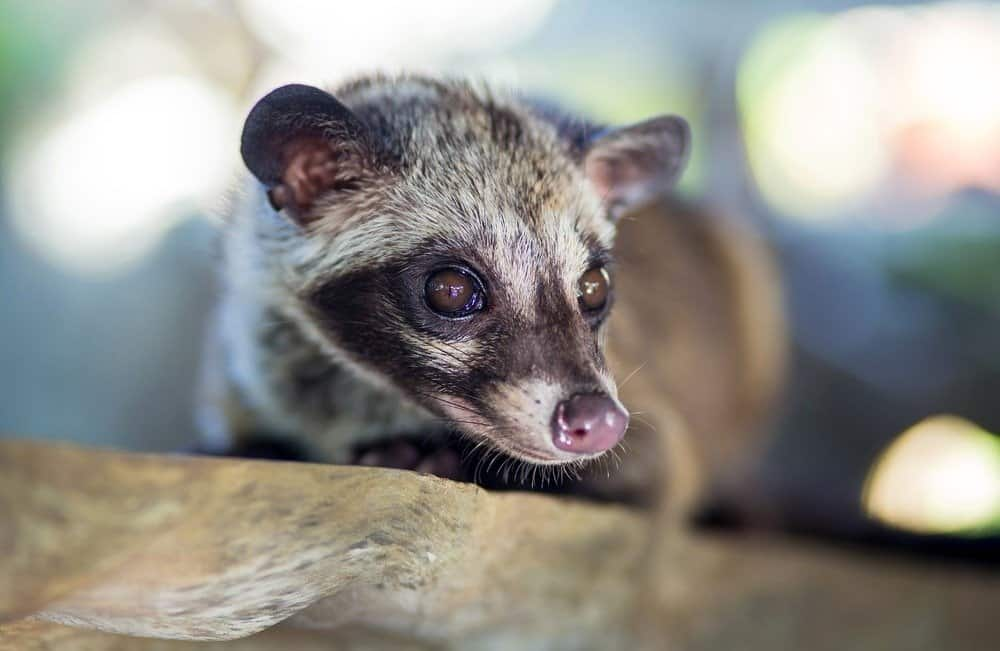Civet: (193, 70, 717, 502)
